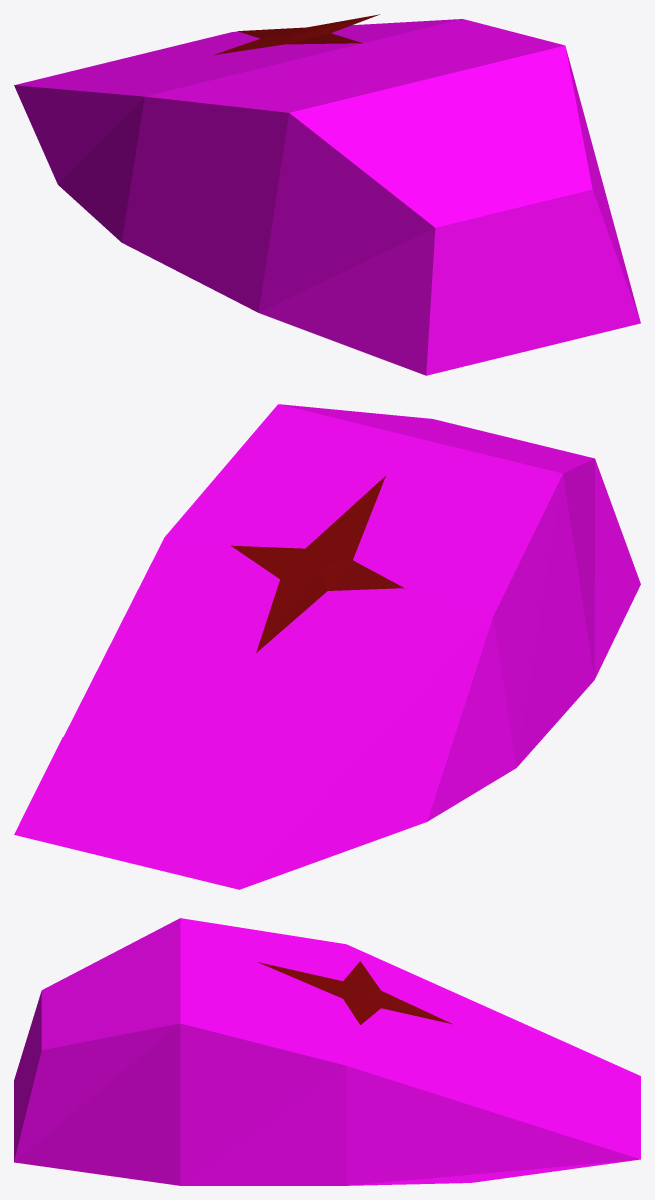
Rendered from saradominstone.obj.
3 views of the same model, one above another, from view 1: azimuth 30°, elevation 25°; view 2: azimuth 150°, elevation 25°; view 3: azimuth 270°, elevation 25° (orthographic). The views are drawn at different scales.
Visible parts, largest first — view 1: saradominstone_back; view 2: saradominstone_back; view 3: saradominstone_back.
Part boxes in pixels (box(x1,y1,x2,y2)): saradominstone_back: box(14, 14, 640, 375); saradominstone_back: box(14, 404, 640, 889); saradominstone_back: box(14, 918, 640, 1185).
Bounding box in the file's own units: 0.96 × 0.49 × 1.81.
